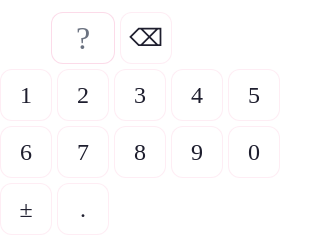
NumberPad allowNegative › pressing ± on value "-5" changes display to "5"
Step 1. Click the text "5" → (254, 95), box left=248, top=82, right=260, bottom=108
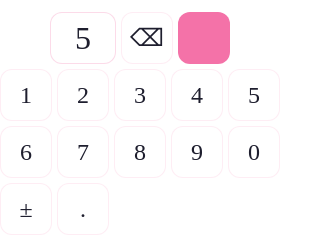
Step 2. Click the text "±" → (26, 209), box left=19, top=196, right=33, bottom=222
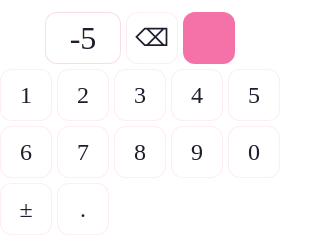
Step 3. Click the text "±" → (26, 209), box left=19, top=196, right=33, bottom=222
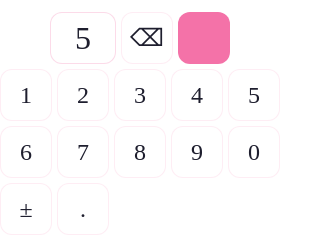
Now the text with test id "numberpad-display" reads "5", box left=75, top=20, right=91, bottom=56
